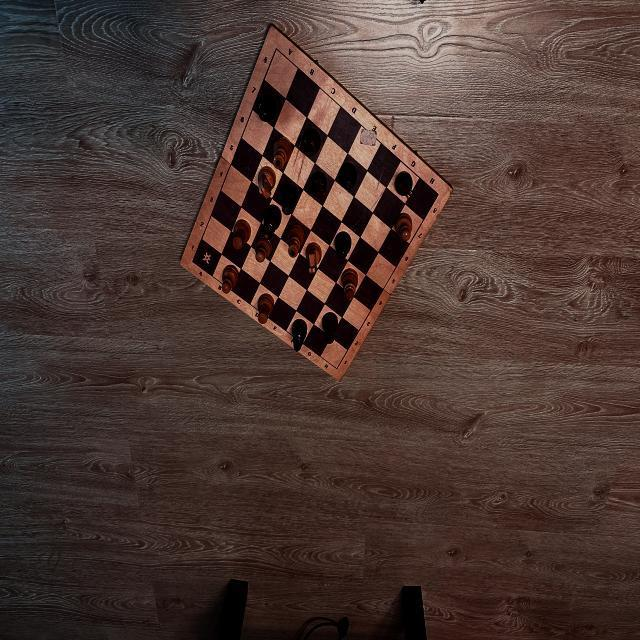chess-table-corners: (273, 44, 280, 53), (436, 191, 441, 198), (190, 259, 194, 264), (336, 368, 338, 370)
